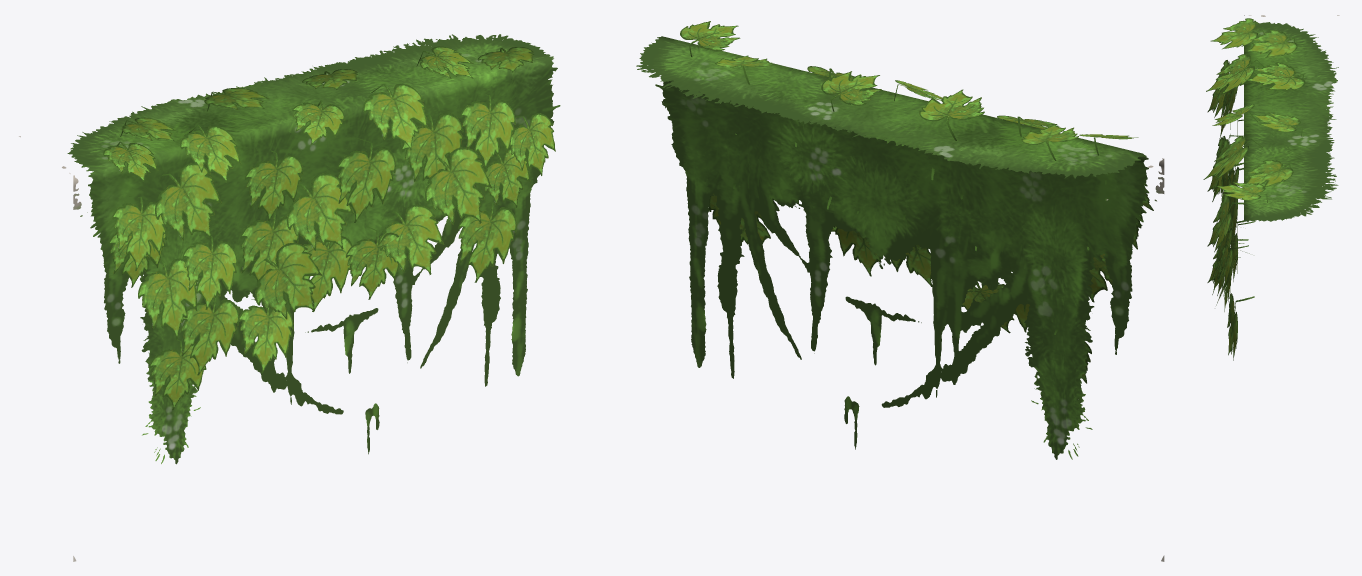
Rendered from IvyWallMesh01.fbx.
The picture shows the model from 3 angles, left to right: view 1: azimuth 30°, elevation 25°; view 2: azimuth 150°, elevation 25°; view 3: azimuth 270°, elevation 25°; orthographic projection. The views are drawn at different scales.
Parts seen in each view (by area): view 1: IvyWall01; view 2: IvyWall01; view 3: IvyWall01.
Part boxes in pixels (<box>): IvyWall01: <box>19,34,560,561</box>; IvyWall01: <box>636,21,1164,561</box>; IvyWall01: <box>1203,15,1339,360</box>.
Bounding box in the file's own units: 4000 × 3206 × 1195.
1 material, 1 textured.
